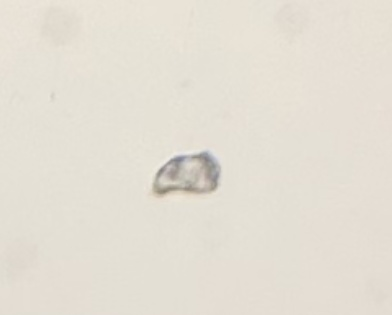microplastic: (152, 151, 220, 196)
